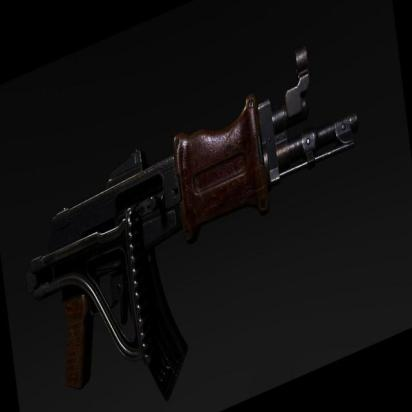Gun: (25, 58, 386, 412)
